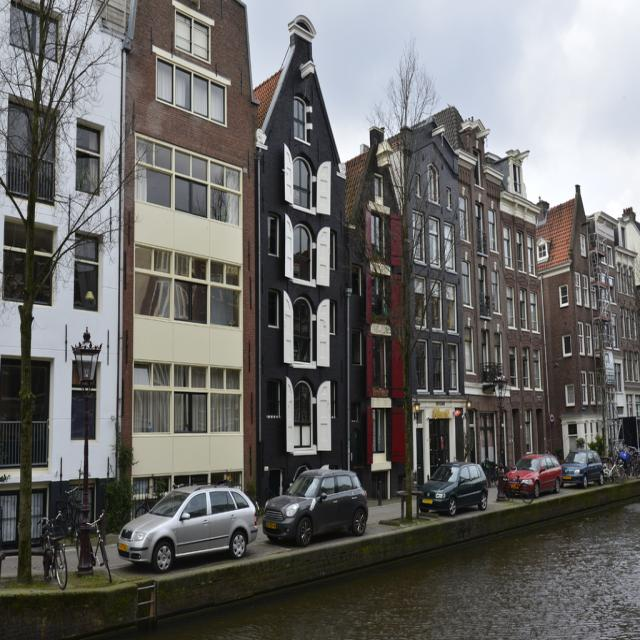car: (116, 482, 262, 574), (260, 460, 370, 543), (416, 456, 488, 514), (498, 444, 563, 499)
